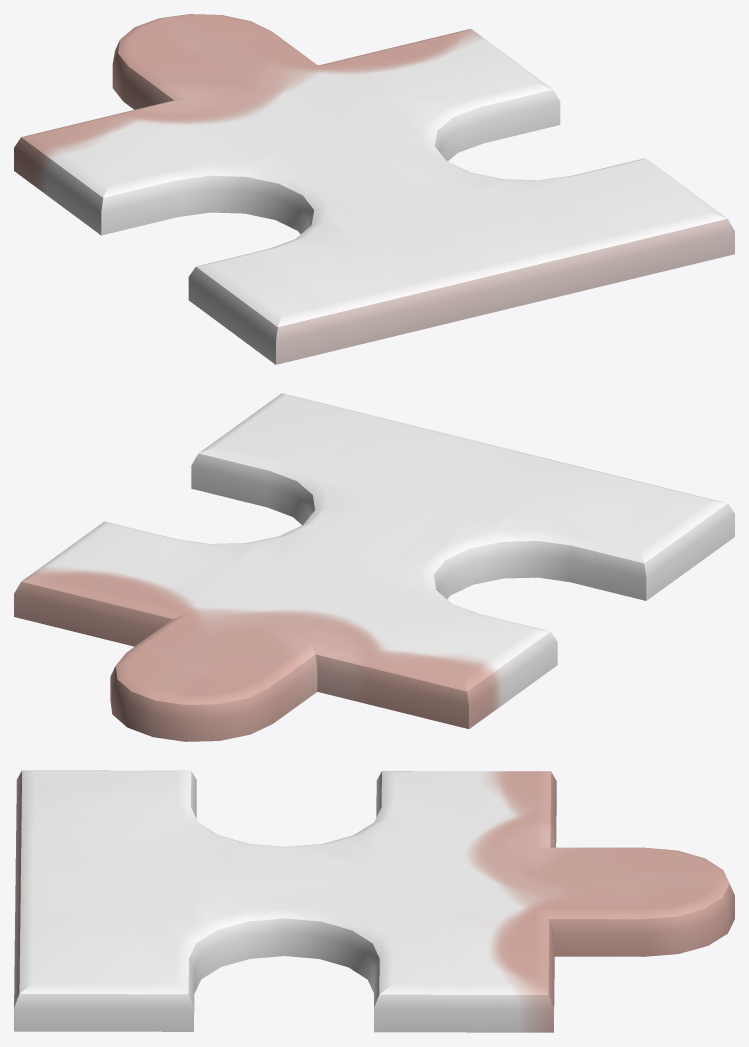
The model's file is puzzle8.fbx.
3 renders of one model, top to bottom at view 1: azimuth 30°, elevation 25°; view 2: azimuth 150°, elevation 25°; view 3: azimuth 270°, elevation 25°, orthographic. The views are drawn at different scales.
Visible parts, largest first — view 1: polySurface8; view 2: polySurface8; view 3: polySurface8.
Part boxes in pixels (bbox=[...]): polySurface8: bbox=[14, 14, 734, 364]; polySurface8: bbox=[14, 393, 734, 741]; polySurface8: bbox=[14, 770, 734, 1032].
Bounding box in the file's own units: 1.01 × 0.0821 × 1.34.
